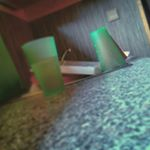cups: (19, 34, 70, 100), (87, 25, 129, 74)
